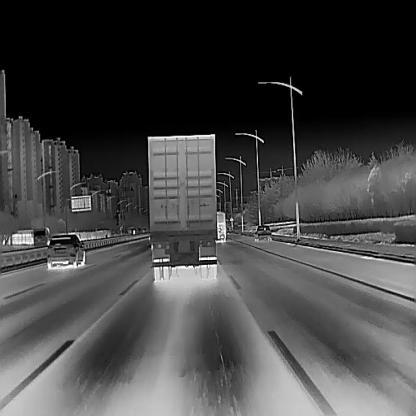car: (148, 133, 217, 280), (46, 233, 85, 267), (30, 227, 50, 246), (215, 211, 226, 242), (254, 224, 271, 240)
